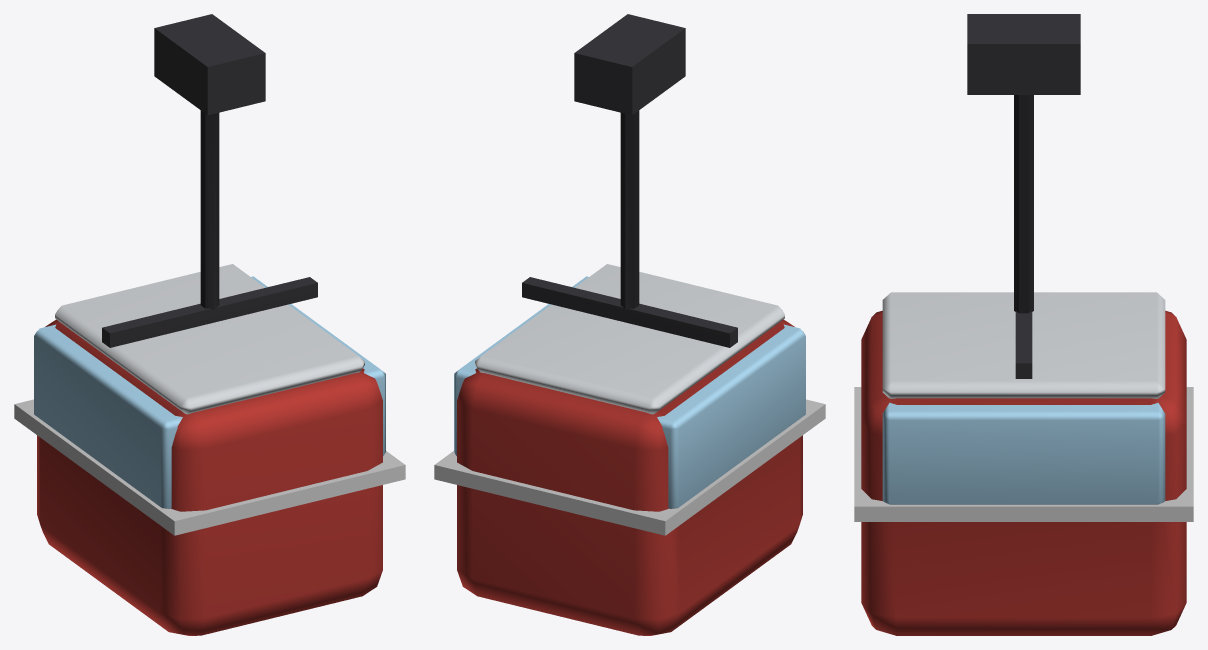
Rendered from prop.glacier_gondola.glb.
3 views of the same model, side by side, from view 1: azimuth 30°, elevation 25°; view 2: azimuth 150°, elevation 25°; view 3: azimuth 270°, elevation 25° (orthographic). The views are drawn at different scales.
Visible parts, largest first — view 1: glacier_gondola; view 2: glacier_gondola; view 3: glacier_gondola.
Boxes of the visible parts, box(x1,y1,x2,y2) form: glacier_gondola: box(14, 14, 405, 635); glacier_gondola: box(434, 14, 825, 635); glacier_gondola: box(854, 14, 1193, 635).
Size of the model in its own units: 2 by 4.4 by 2.4.
